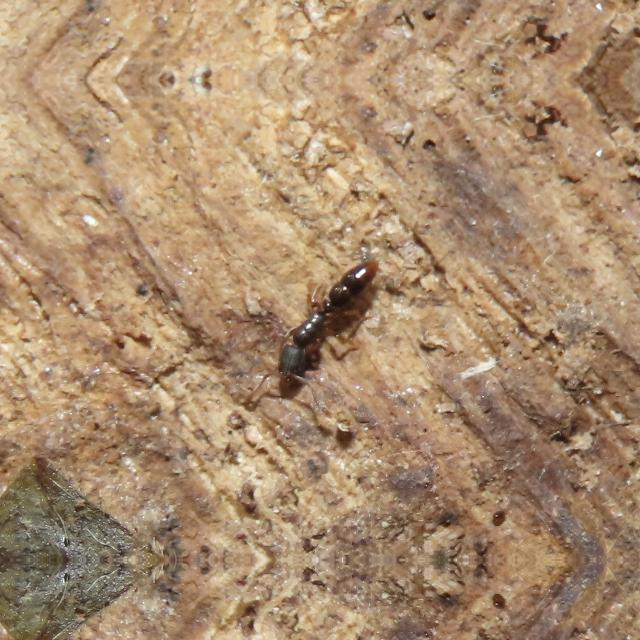Ponera: (266, 238, 379, 402)
